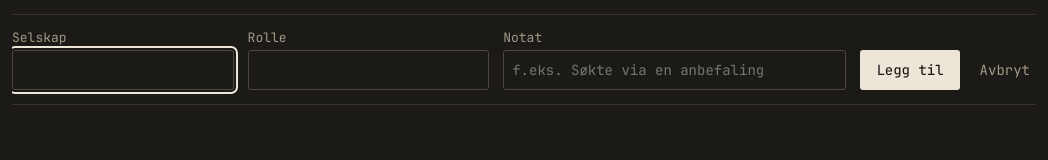
Test: applications in bokmål › should say the machine did not answer in bokmål
Type "Org Three AS" into the field labelled "Selskap" at (123, 70), box 12,50 -> 234,90
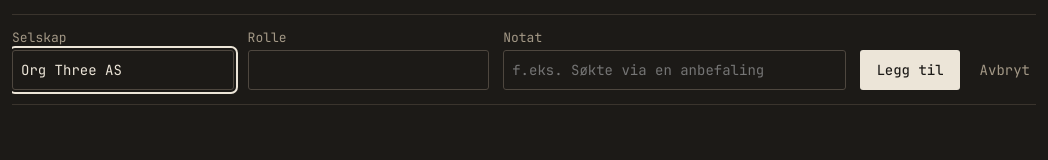
Click the button "Legg til" at (910, 70), box 860,50 -> 960,90
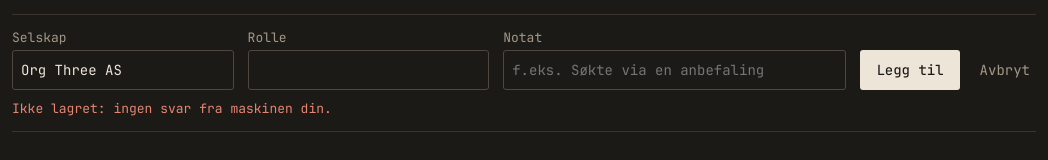
Expected: the message reads "Ikke lagret: ingen svar fra maskinen din.", 12,100 -> 332,117
